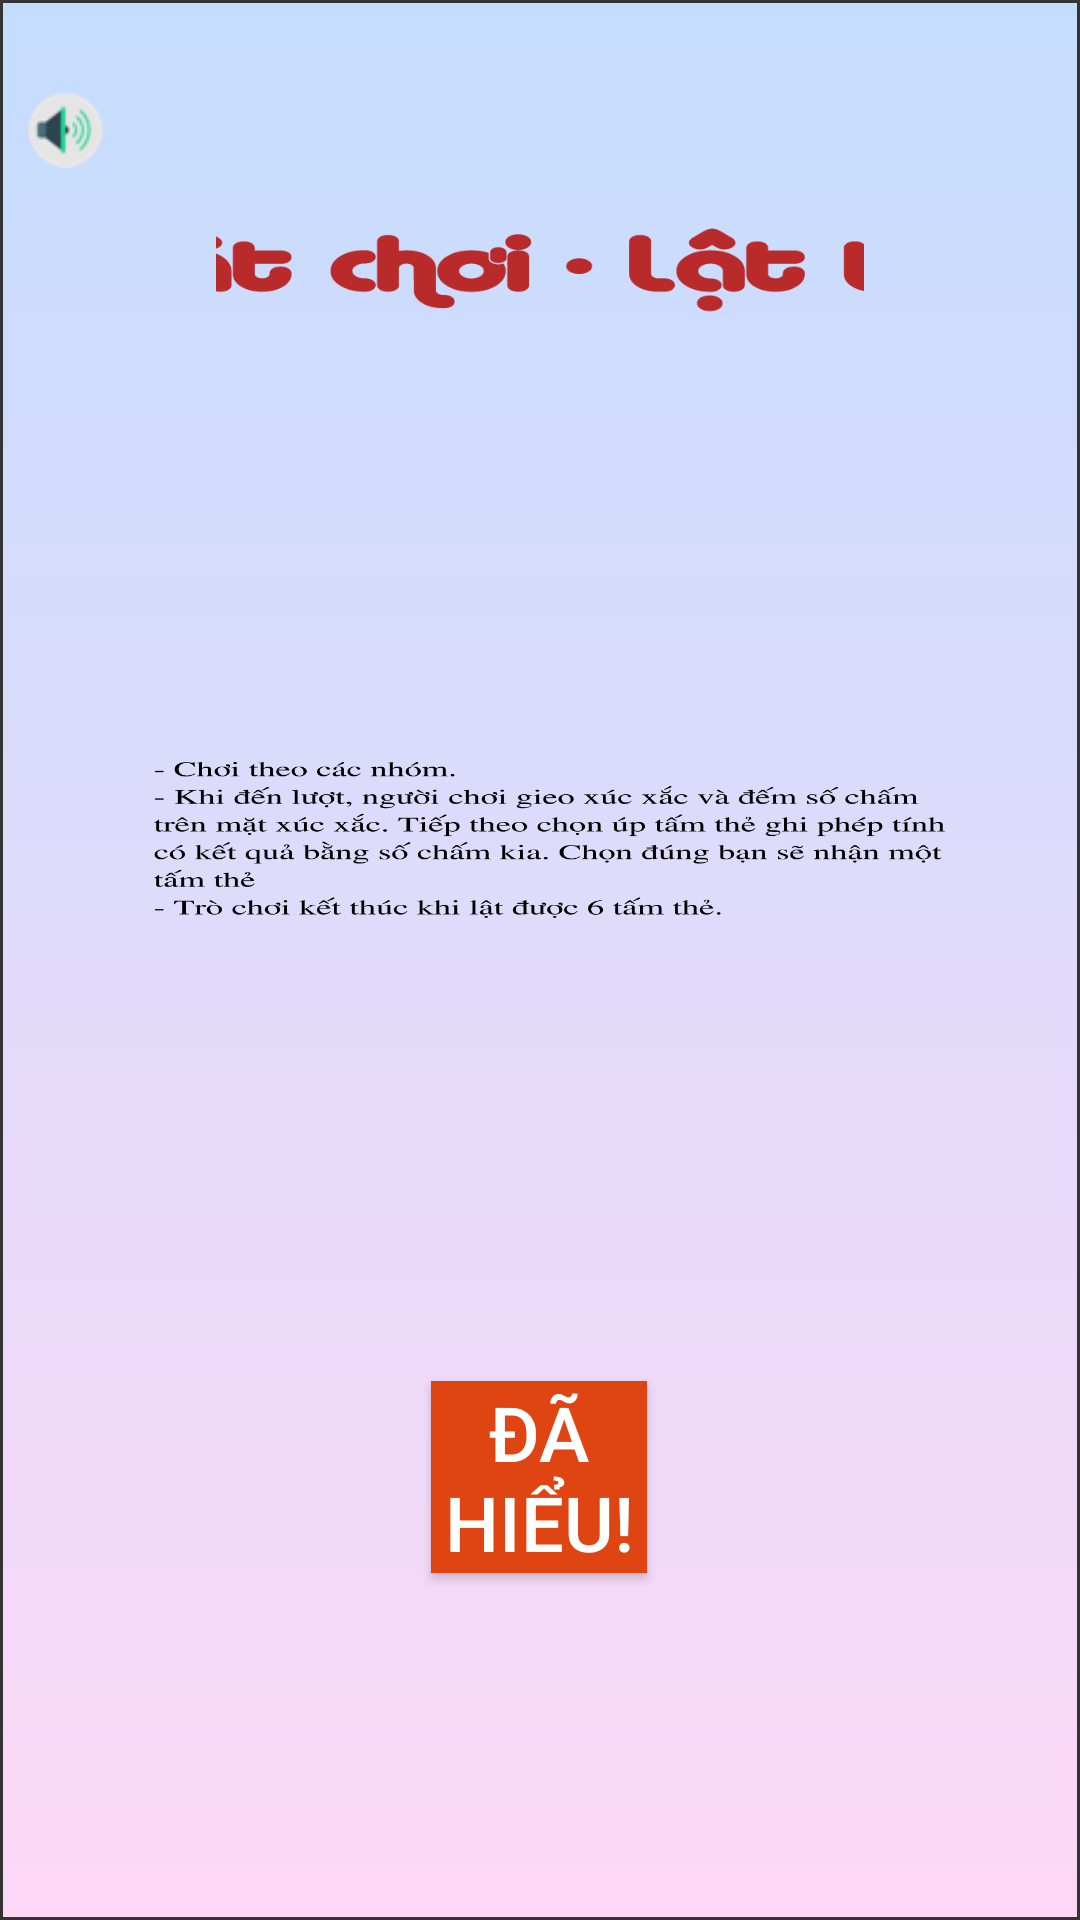

Icon click points for this 1080px×1920px phone screenshot, format (x,y):
sound on: (65,130)
